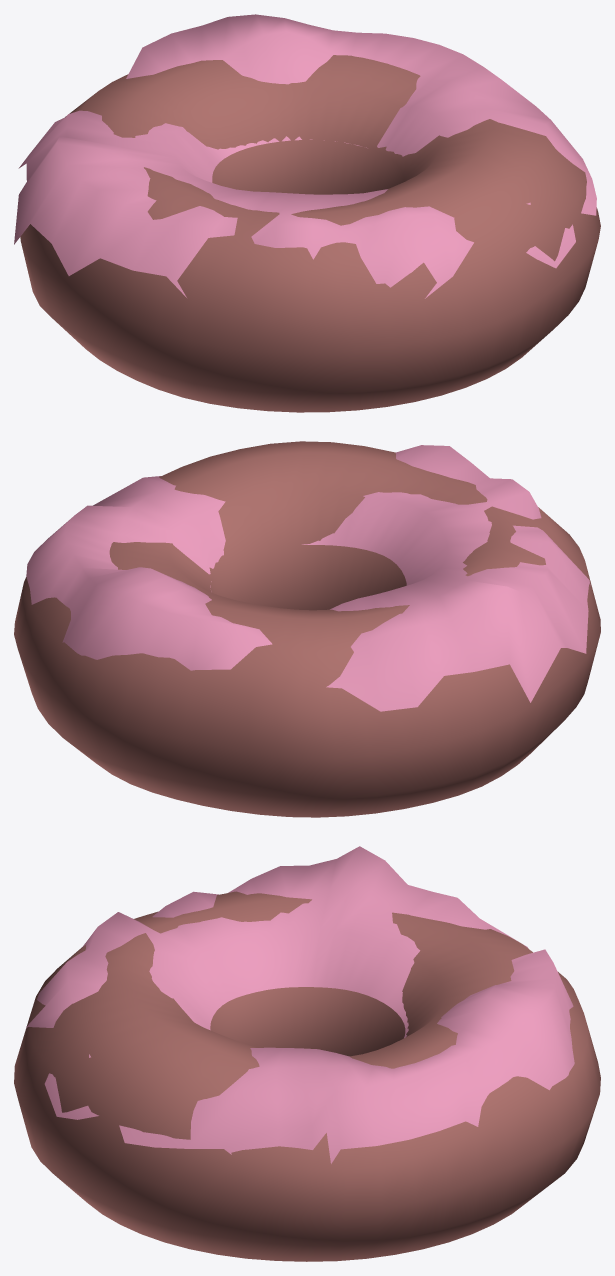
File: donut2.glb
3 views of the same model, one above another, from view 1: azimuth 30°, elevation 25°; view 2: azimuth 150°, elevation 25°; view 3: azimuth 270°, elevation 25° (orthographic).
Parts seen in each view (by area): view 1: donut, icing; view 2: donut, icing; view 3: donut, icing.
Boxes of the visible parts, box(x1,y1,x2,y2) form: donut: box(20, 55, 600, 412); icing: box(14, 14, 596, 298); donut: box(14, 441, 600, 817); icing: box(26, 445, 590, 711); donut: box(14, 891, 600, 1261); icing: box(26, 846, 574, 1163).
Size of what is drawn, in the model's own units: 3.19 by 1.26 by 3.09.
